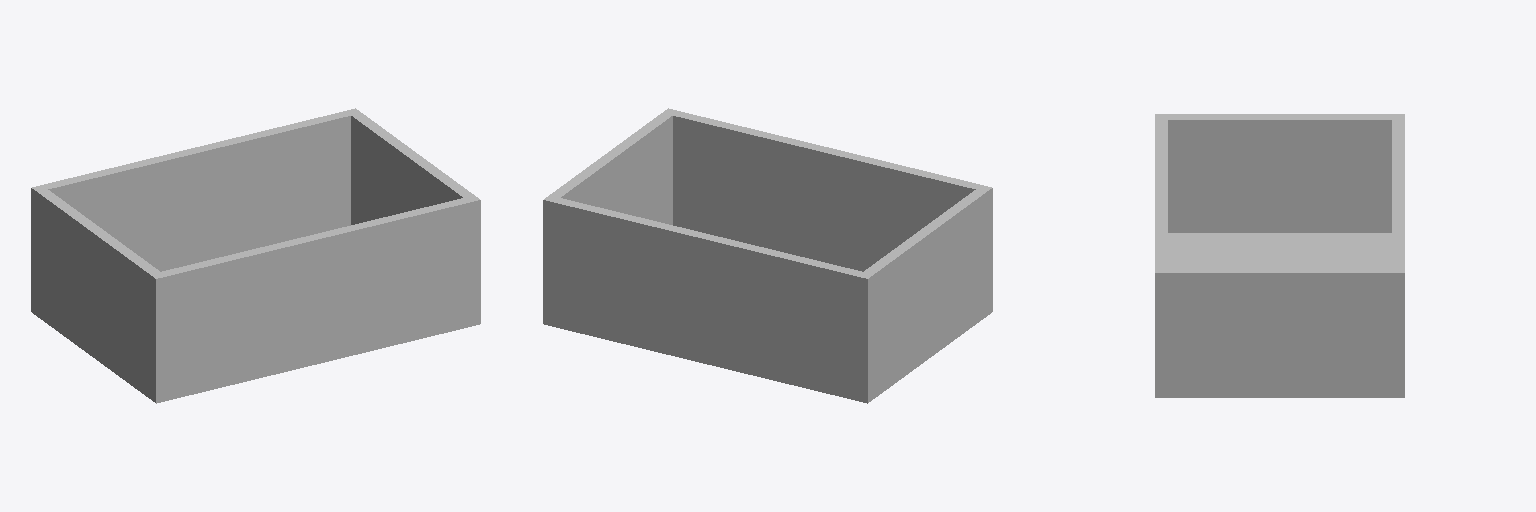
The model's file is Bath.obj.
The picture shows the model from 3 angles: view 1: azimuth 30°, elevation 25°; view 2: azimuth 150°, elevation 25°; view 3: azimuth 270°, elevation 25°; orthographic projection.
Parts seen in each view (by area): view 1: Cube_Cube.001; view 2: Cube_Cube.001; view 3: Cube_Cube.001.
Boxes of the visible parts, box(x1,y1,x2,y2) form: Cube_Cube.001: box(31, 108, 480, 403); Cube_Cube.001: box(543, 108, 992, 403); Cube_Cube.001: box(1155, 114, 1404, 397).
Size of the model in its own units: 6 by 2.2 by 4.